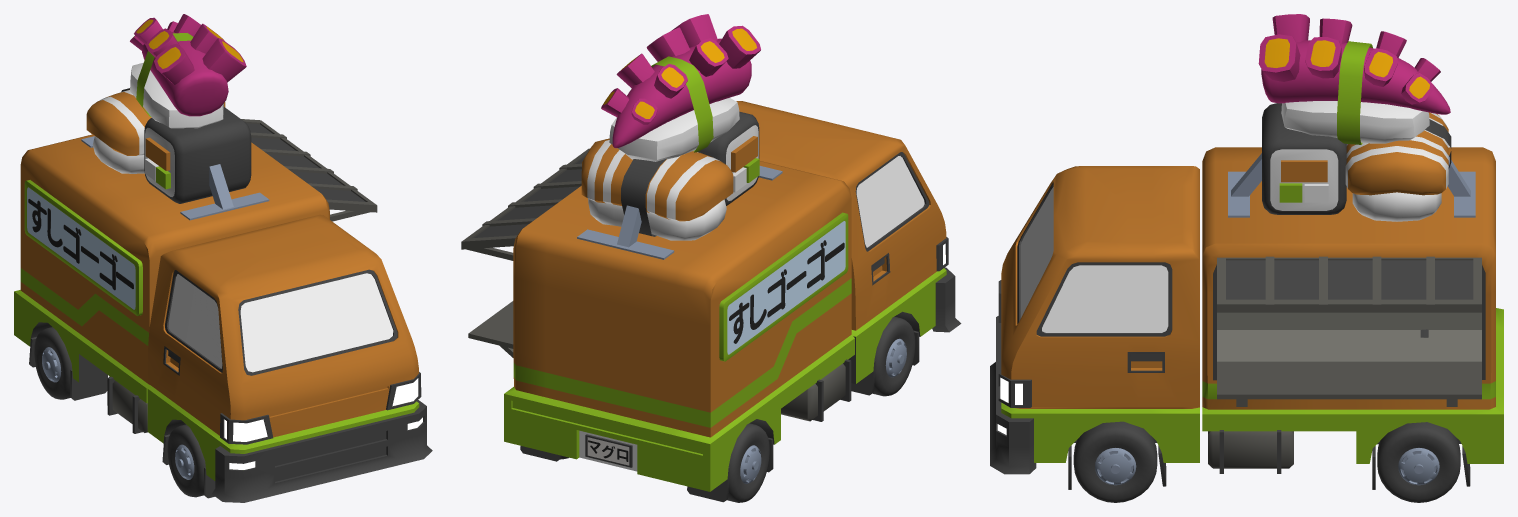
Rendered from Truck.glb.
3 views of the same model, side by side, from view 1: azimuth 30°, elevation 25°; view 2: azimuth 150°, elevation 25°; view 3: azimuth 270°, elevation 25° (orthographic). The views are drawn at different scales.
Parts seen in each view (by area): view 1: Truck; view 2: Truck; view 3: Truck.
Boxes of the visible parts, <box> form: Truck: <box>14,14,432,502</box>; Truck: <box>461,14,961,502</box>; Truck: <box>990,14,1503,502</box>.
Size of the model in its own units: 5.1 by 7.31 by 7.98.
3 materials, 1 textured.
